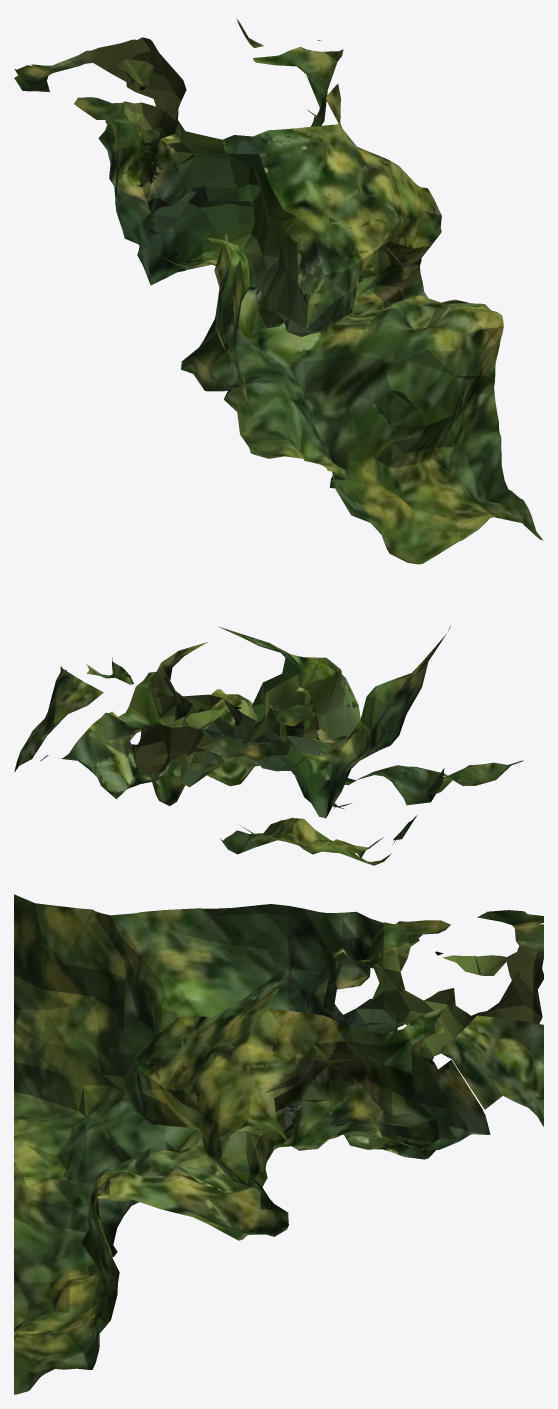
The picture shows the model from 3 angles, top to bottom: view 1: azimuth 30°, elevation 25°; view 2: azimuth 150°, elevation 25°; view 3: azimuth 270°, elevation 25°; orthographic projection. The views are drawn at different scales.
Size of the model in its own units: 0.5772 by 0.6057 by 0.8374.
4 materials, 4 textured.
